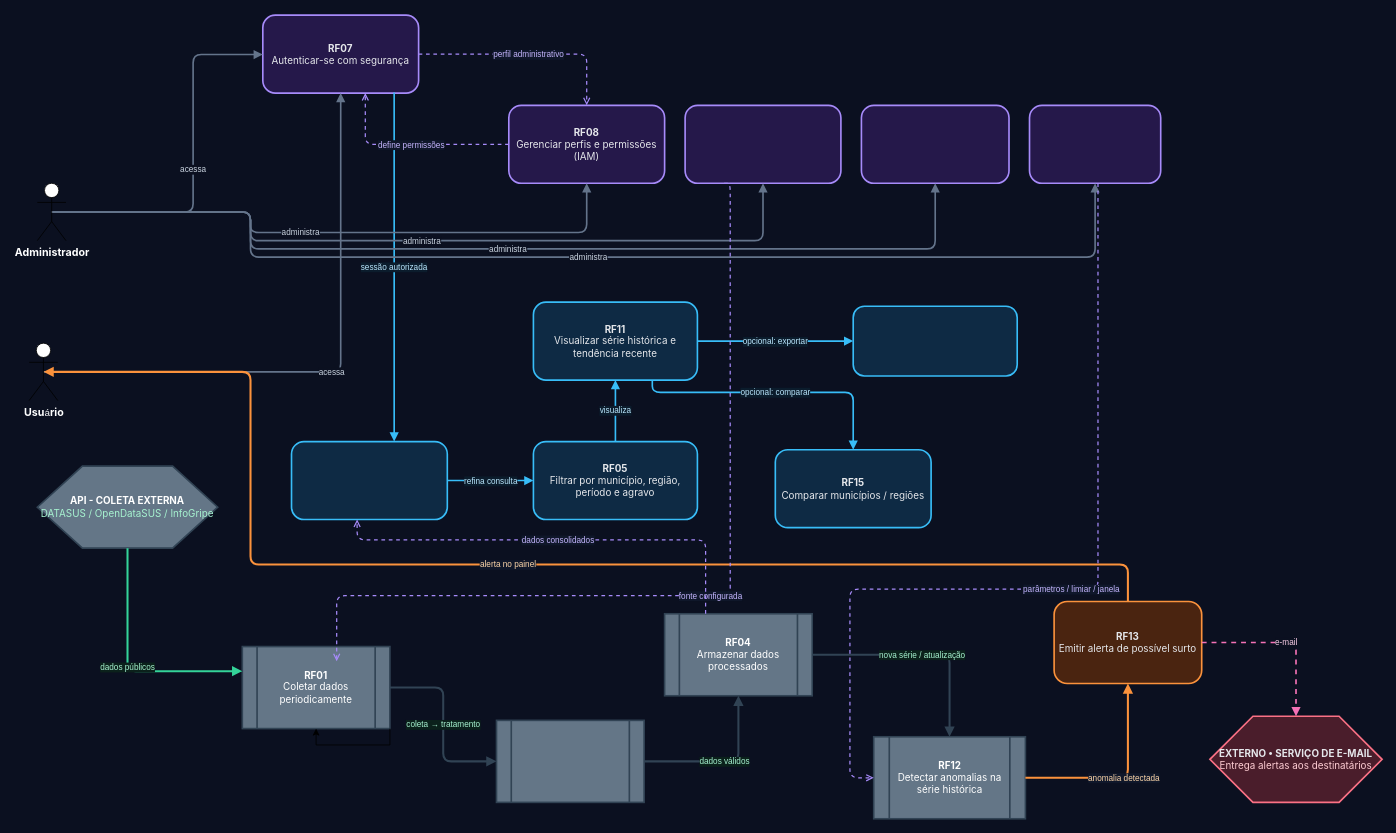
Some shapes in this 1396 by 833 pixel diagram are drawn without their labels. The centre of each missing label's shape, as x and y in pixels:
RF02 Cadastrar fontes epidemiológicas: the point at 762,144
RF03 Validar e padronizar série temporal: the point at 570,761
RF06 Consultar indicadores consolidados: the point at 369,480
RF09 Gerenciar dados administrativos: the point at 934,144
RF10 Exportar dados brutos ou agregados: the point at 935,340
RF14 Configurar método de detecção: the point at 1094,144
